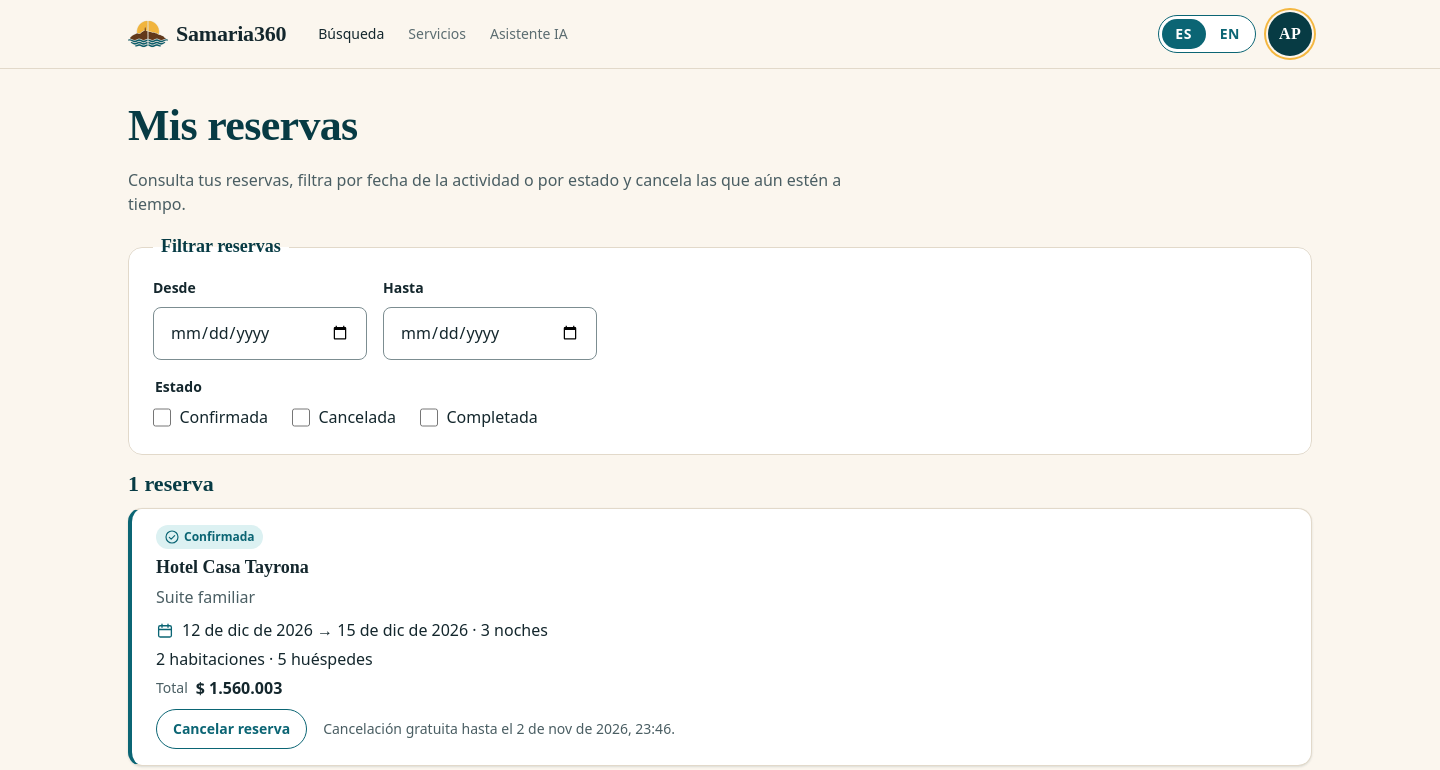
Test case: WF-11 «Mis reservas»: cancelar (RF18, RF44) › si RF52 la completó mientras tanto (RESERVA_NO_CANCELABLE), cierra el diálogo, avisa y vuelve a consultar
Click the button "Cancelar reserva" at (232, 729), box [156,709,307,749]
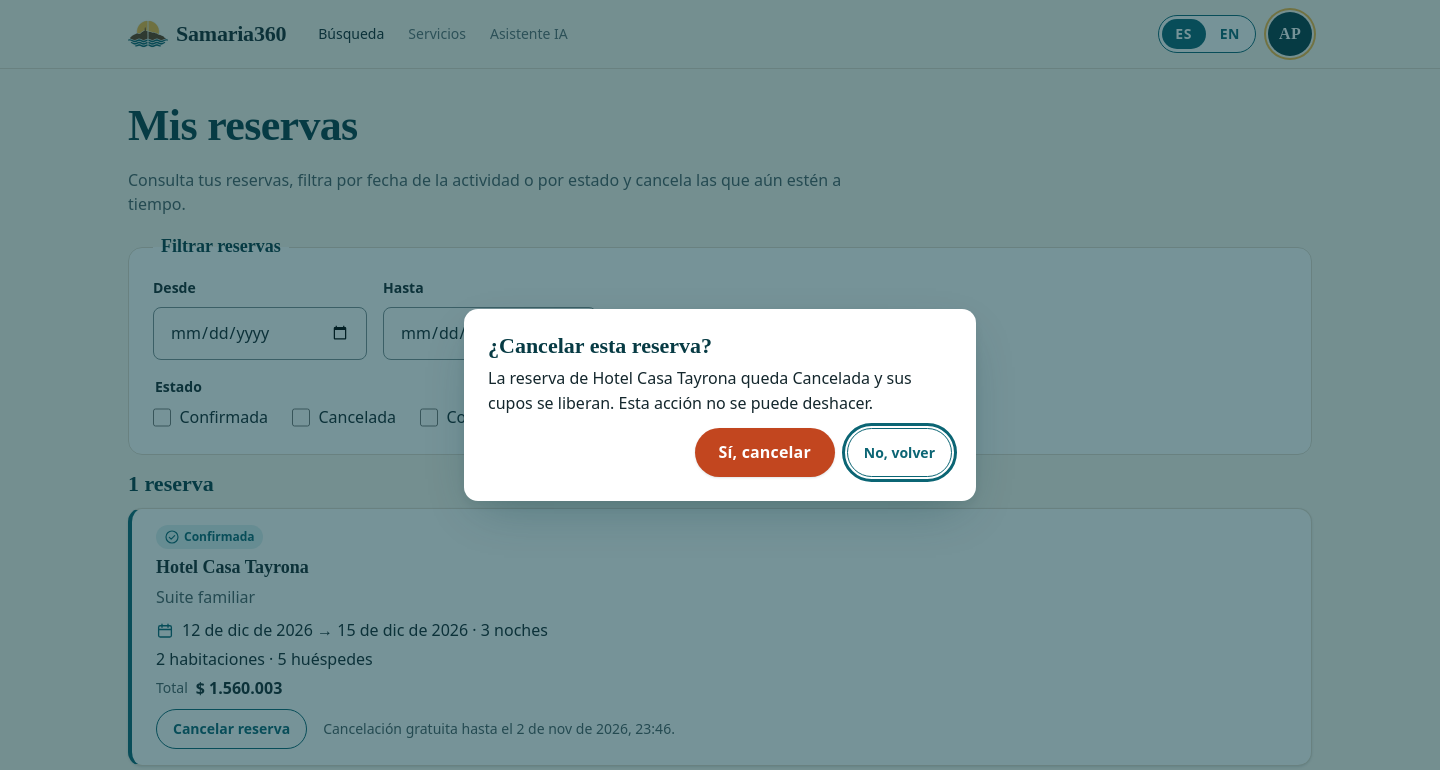
Click the button "Sí, cancelar" at (765, 452), box [695,428,835,477]
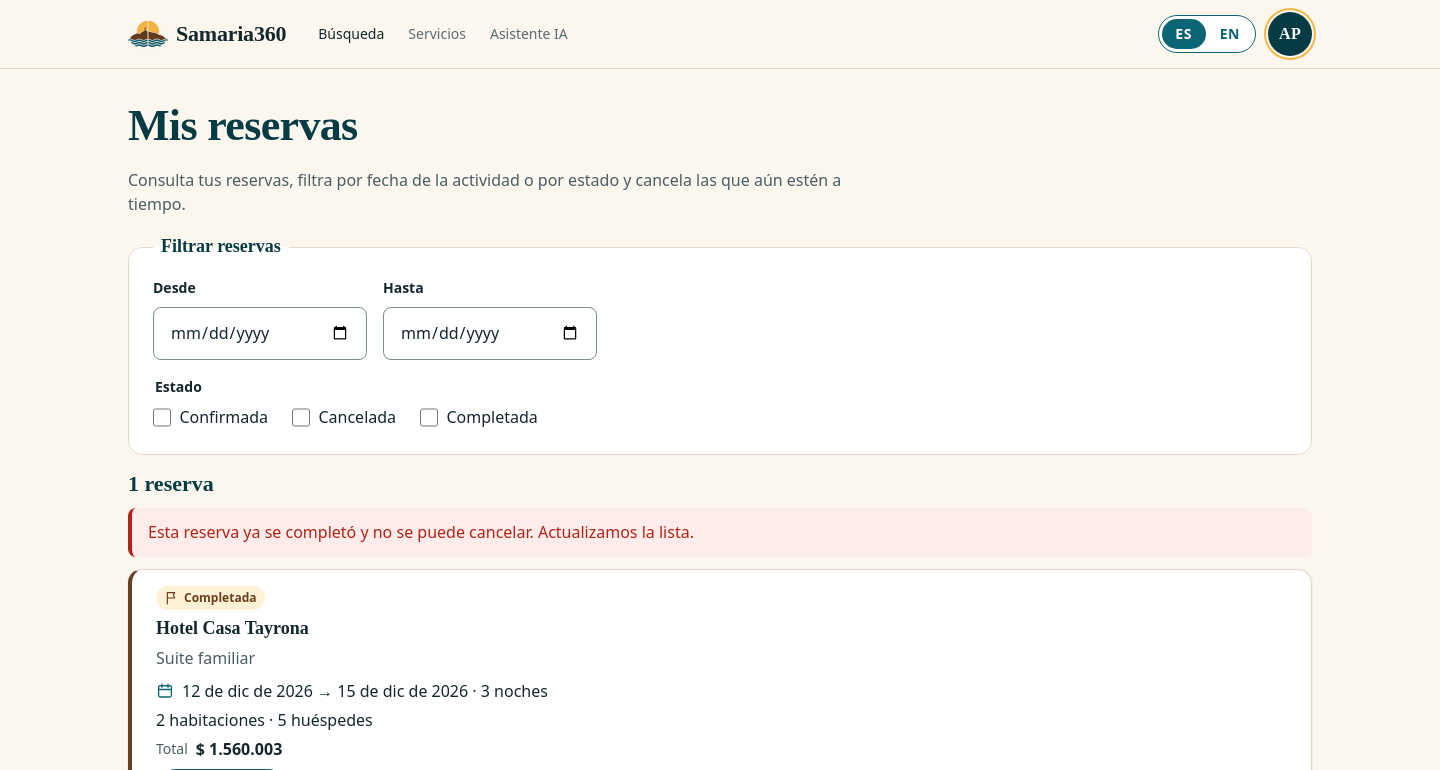
Now the dialog is gone
Now the text "Completada" is shown, box [156,586,264,610]
